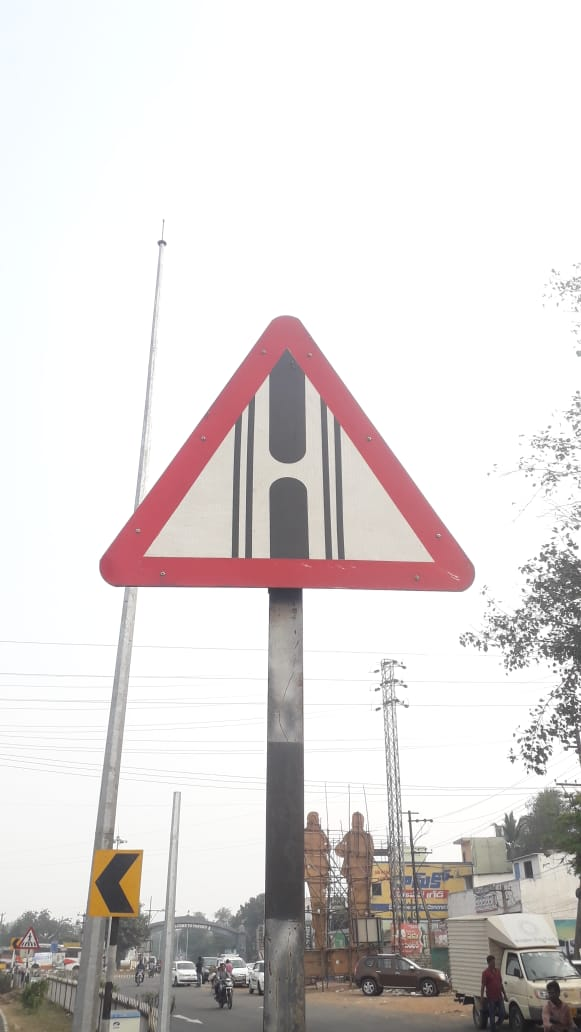highway go straight: (90, 279, 489, 643)
